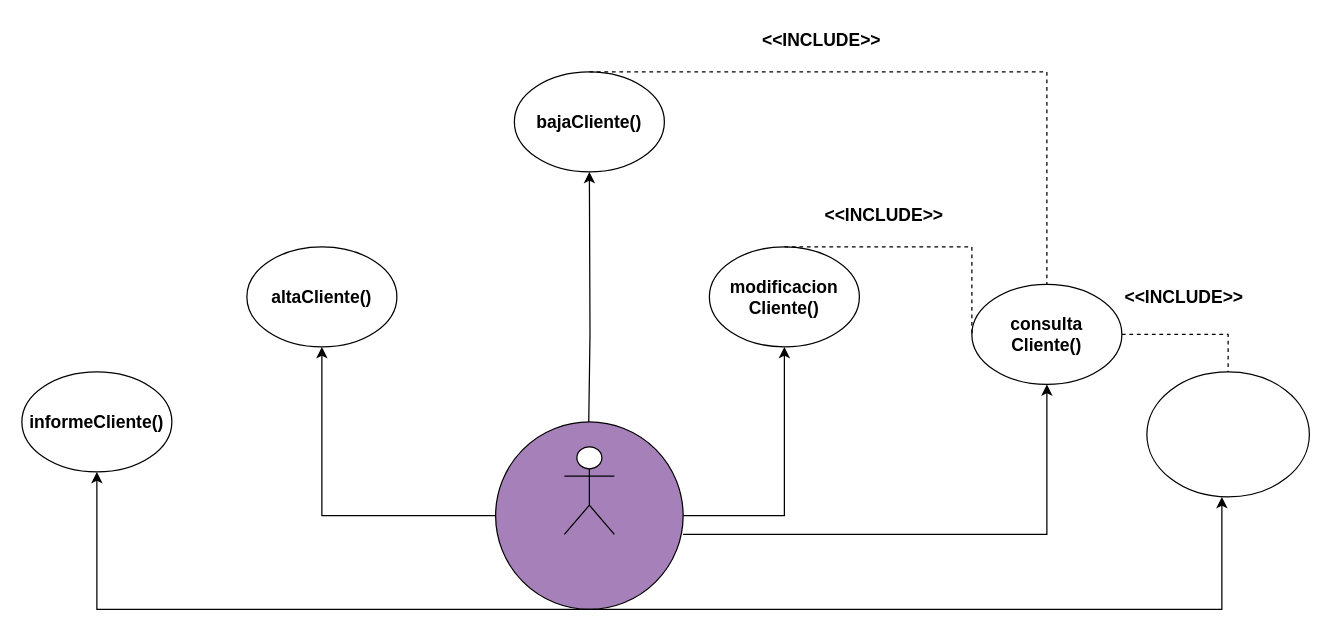
This 1331x641 diagram has some shape labels left out. Here are the shapes that lost their labels. From the top down, the centre of each, then its label:
the point at 1227,434: listado FacturasCliente()
the point at 588,490: CLIENTE (USUARIO)
